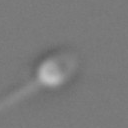normal: (1, 78, 37, 114)
